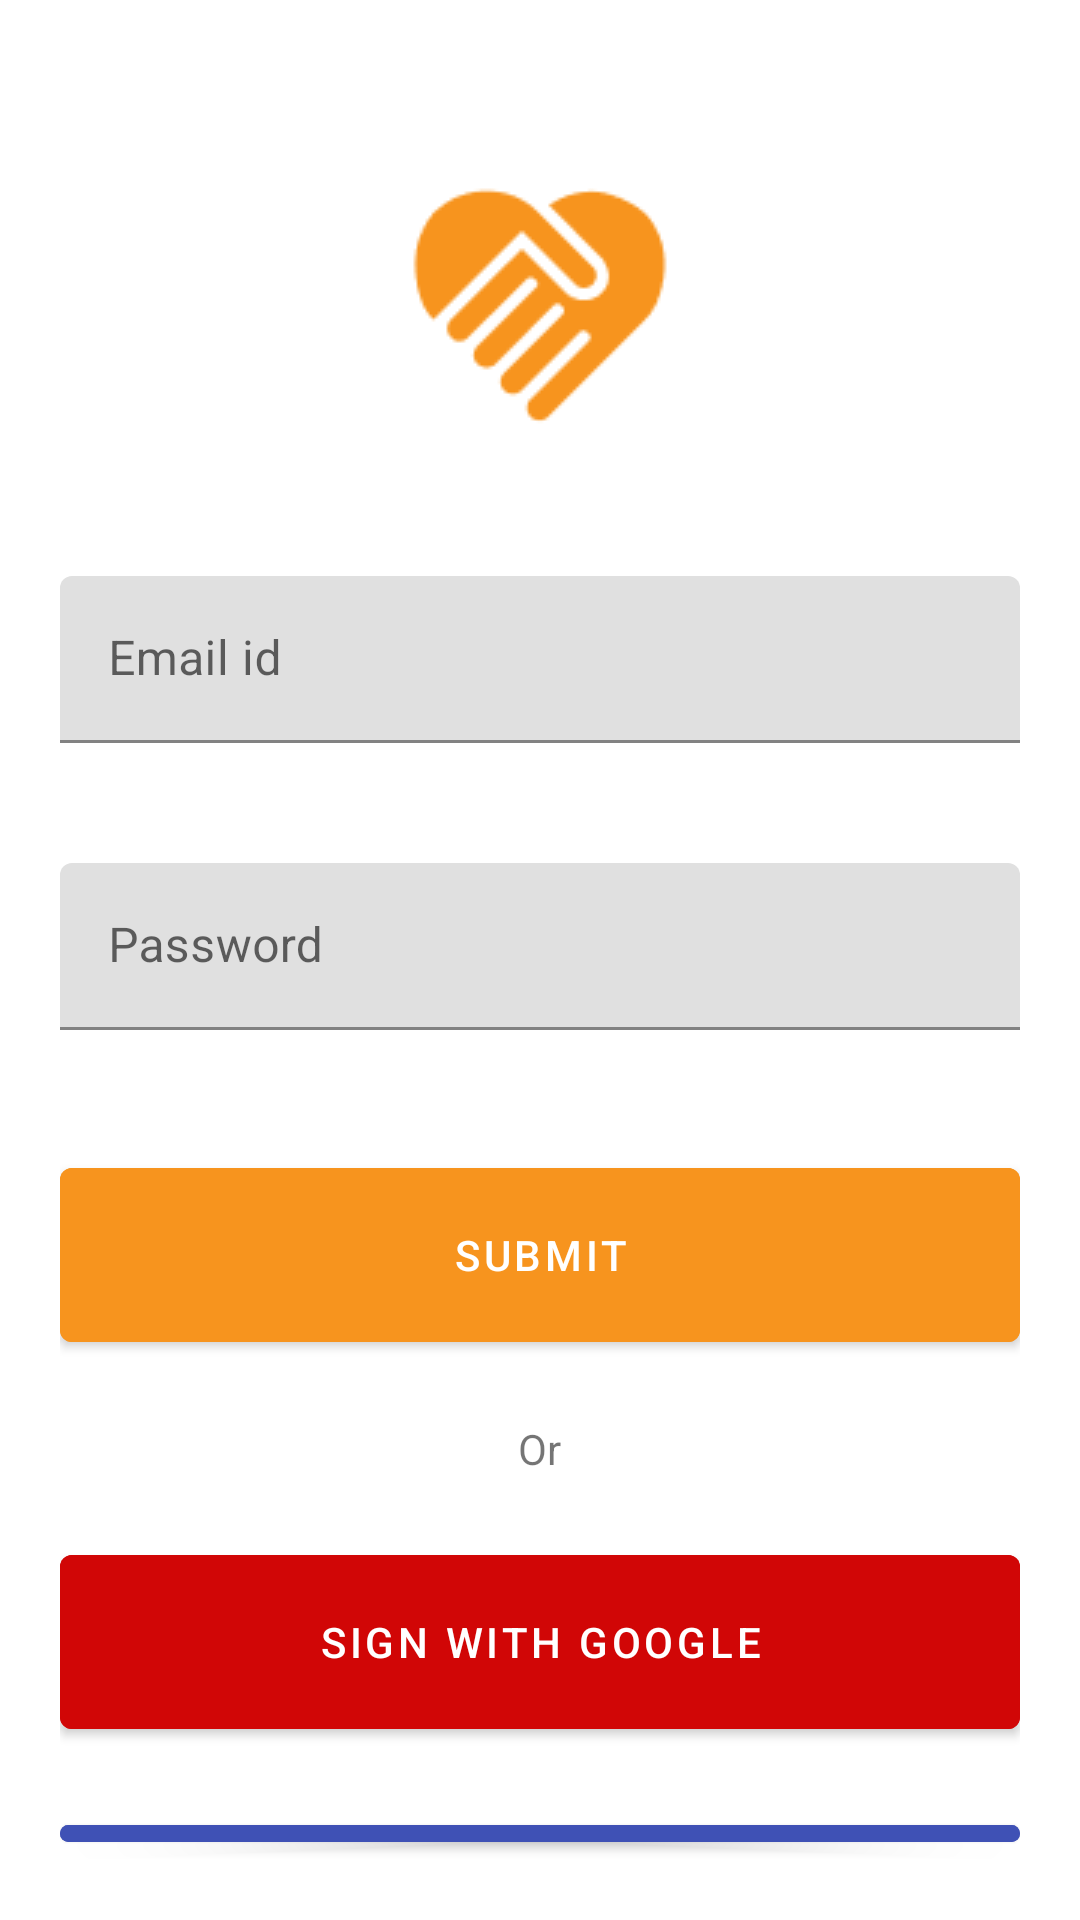

Point at icon controls on the screen. Image size 1080 x 1920, points as (x=x, y=y).
charity: (x=540, y=305)
